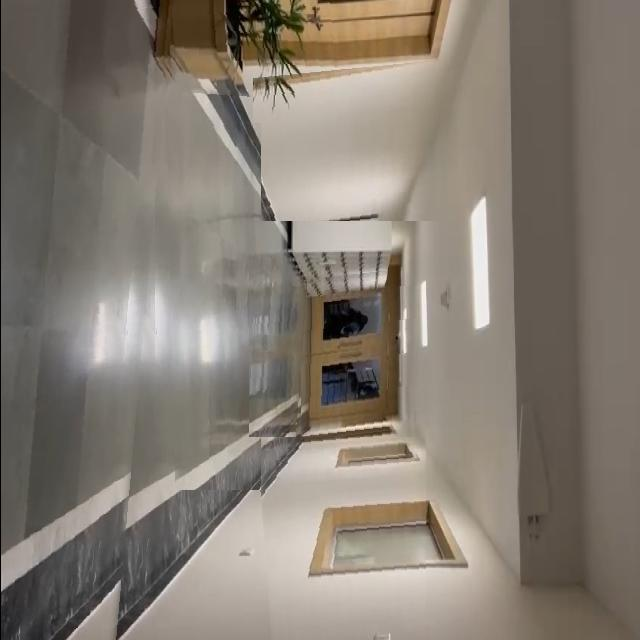door: (300, 267, 418, 437)
floor: (0, 0, 172, 640), (166, 123, 260, 490), (248, 259, 308, 437)
furniture: (165, 0, 336, 103)
wall: (254, 403, 425, 640), (252, 59, 450, 221)
